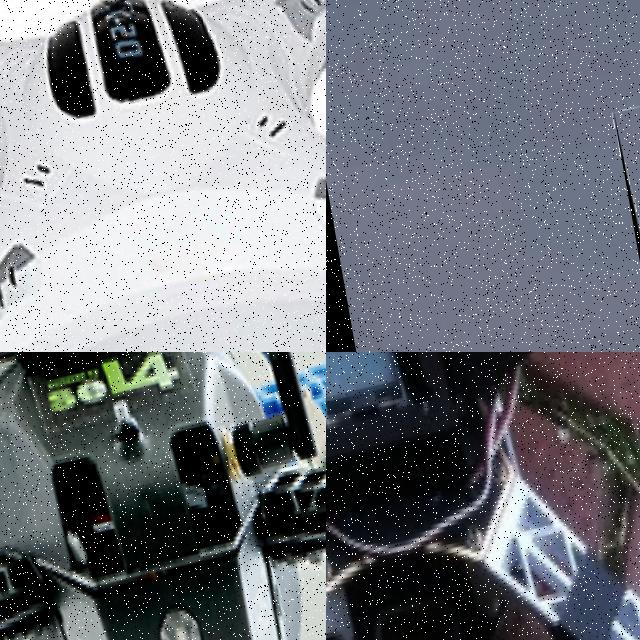drone: (0, 0, 326, 352), (0, 352, 326, 640), (326, 352, 640, 640)
